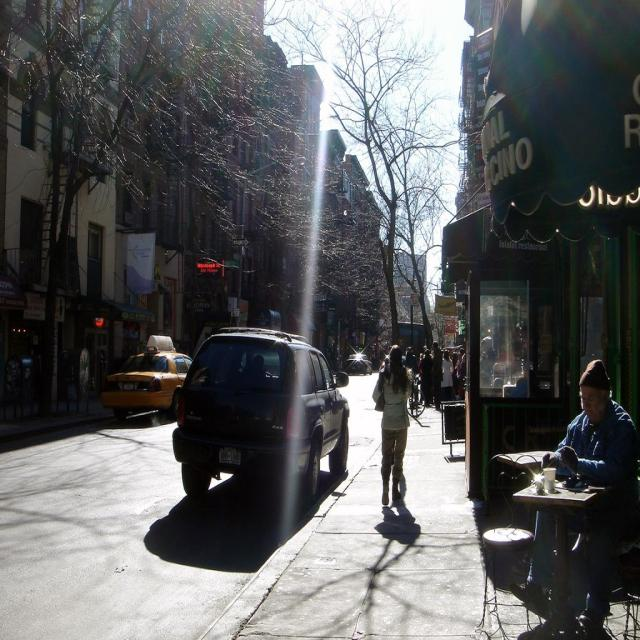car: (169, 320, 348, 502)
